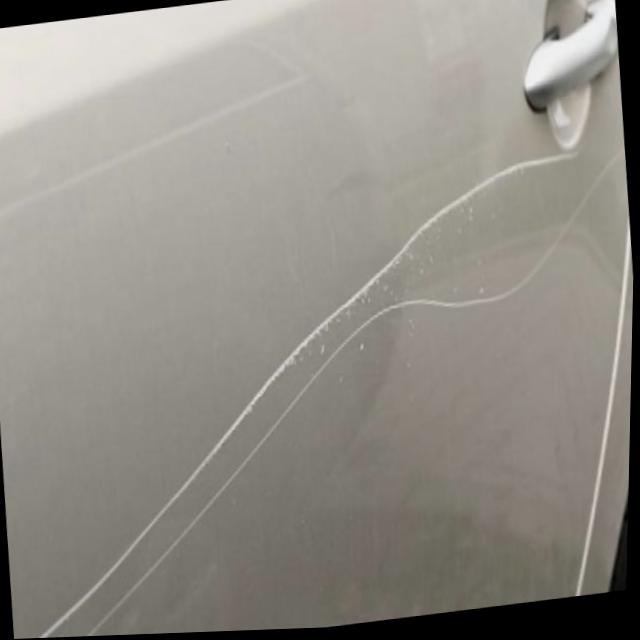Scratch: (72, 132, 625, 637), (26, 148, 587, 639)
